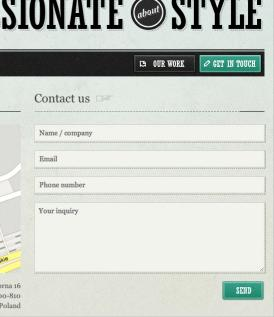button: (133, 54, 196, 73), (199, 54, 261, 73), (222, 280, 264, 301)
field: (34, 202, 266, 274), (34, 150, 266, 169), (34, 176, 266, 195), (33, 125, 266, 143)
